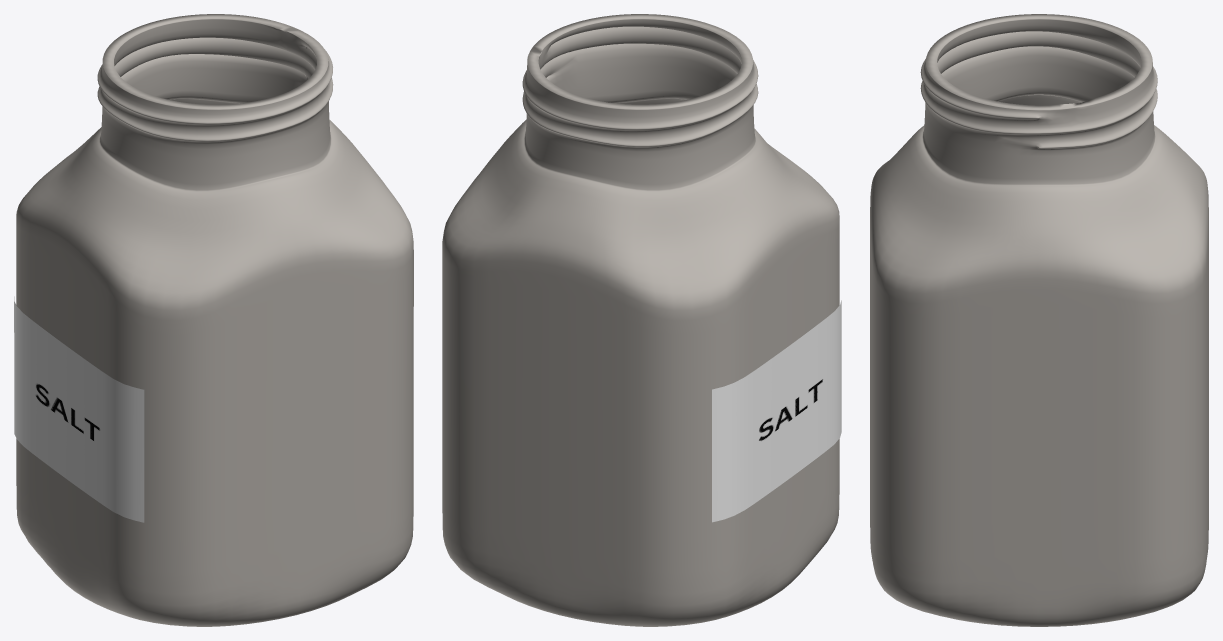
Rendered from SaltBottle.fbx.
3 views of the same model, side by side, from view 1: azimuth 30°, elevation 25°; view 2: azimuth 150°, elevation 25°; view 3: azimuth 270°, elevation 25° (orthographic).
Visible parts, largest first — view 1: Naphtholin Btl; view 2: Naphtholin Btl; view 3: Naphtholin Btl.
Part boxes in pixels (x1=…): Naphtholin Btl: x1=14, y1=14, x2=413, y2=626; Naphtholin Btl: x1=442, y1=14, x2=841, y2=626; Naphtholin Btl: x1=870, y1=14, x2=1208, y2=626.
Bounding box in the file's own units: 158 × 255 × 157.
Materials: 2 (1 with a texture image).
